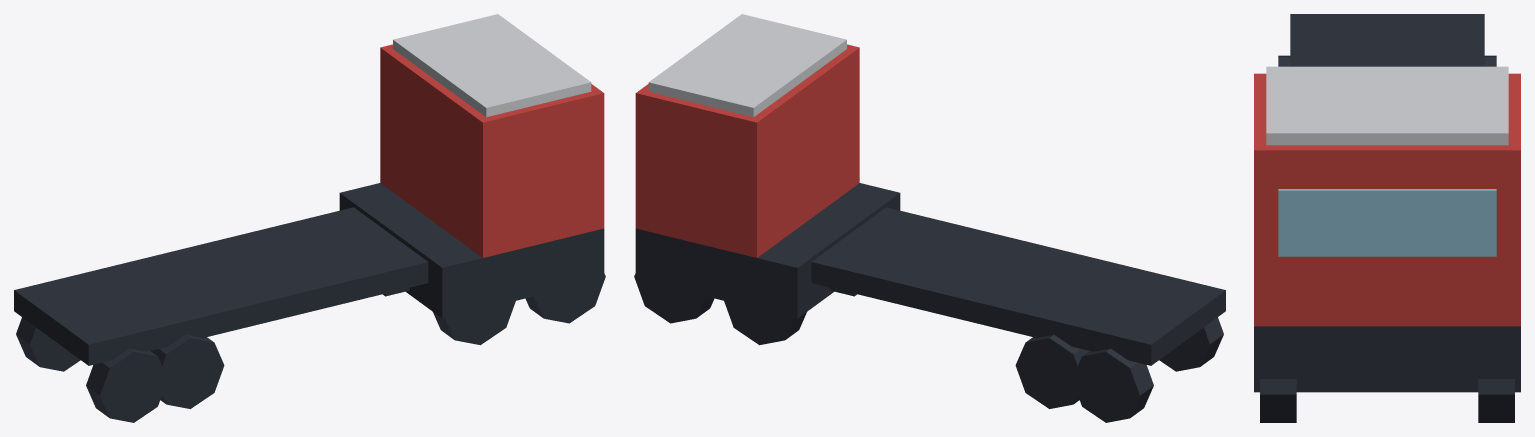
Rendered from truck.glb.
3 renders of one model, left to right at view 1: azimuth 30°, elevation 25°; view 2: azimuth 150°, elevation 25°; view 3: azimuth 270°, elevation 25°, orthographic. The views are drawn at different scales.
Visible parts, largest first — view 1: cab, trailer; view 2: cab, trailer; view 3: cab, trailer.
Part boxes in pixels (bbox=[...]): cab: bbox=[339, 14, 605, 345]; trailer: bbox=[14, 207, 428, 422]; cab: bbox=[634, 14, 900, 345]; trailer: bbox=[811, 207, 1225, 422]; cab: bbox=[1254, 66, 1520, 422]; trailer: bbox=[1278, 14, 1496, 66].
Bounding box in the file's own units: 6.25 × 2.76 × 2.2.
